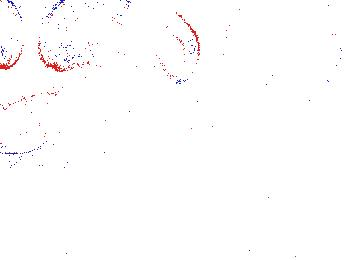moon jellyfish: (224, 1, 340, 101), (38, 1, 147, 73), (39, 78, 133, 151), (131, 3, 200, 84), (1, 92, 67, 155), (1, 1, 26, 71)
